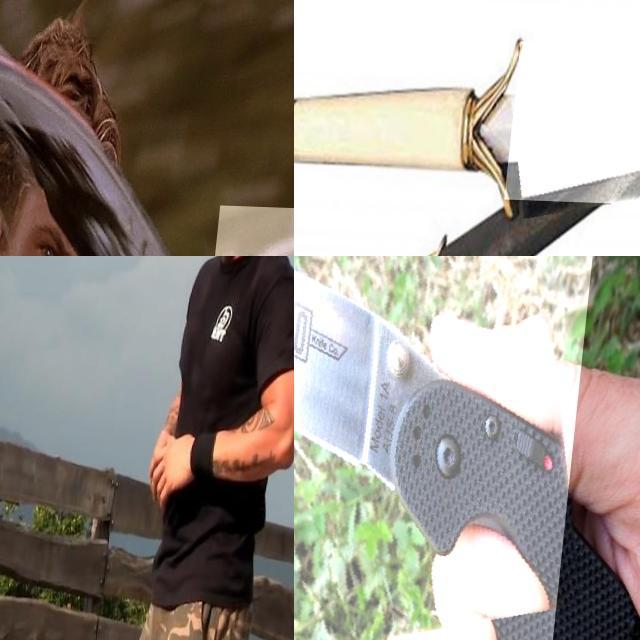-: (294, 256, 603, 640), (511, 39, 640, 207), (0, 503, 56, 586)
